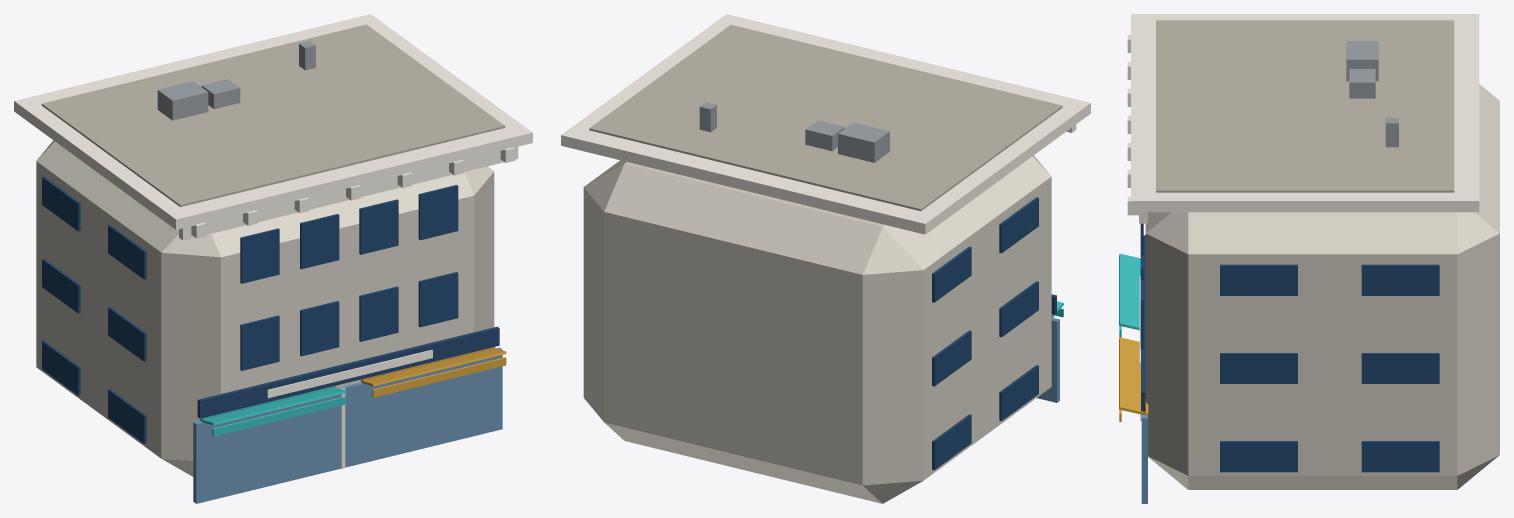
The model's file is mixed_w14_f3_punched.glb.
3 views of the same model, side by side, from view 1: azimuth 30°, elevation 25°; view 2: azimuth 150°, elevation 25°; view 3: azimuth 270°, elevation 25° (orthographic). The views are drawn at different scales.
Visible parts, largest first — view 1: walls, roofslab, shopglass, corn, fascia, frieze, win.003, win.007, win, win.002, win.004, win.005 (+15 smaller); view 2: walls, roofslab, corn, hvac, sb.002, sb.004, sb, sb.006, sb.010, sb.008, hvac2, shopglass; view 3: walls, roofslab, corn, sb.003, sb.011, sb.001, sb.009, sb.007, sb.005, awn.001, awn, hvac (+4 smaller).
Boxes of the visible parts, bbox=[...] form: walls: bbox=[36, 140, 494, 476]; roofslab: bbox=[41, 24, 505, 206]; shopglass: bbox=[193, 347, 502, 503]; corn: bbox=[14, 14, 532, 229]; fascia: bbox=[197, 326, 499, 418]; frieze: bbox=[179, 146, 518, 240]; win.003: bbox=[418, 272, 458, 327]; win.007: bbox=[418, 185, 458, 240]; win: bbox=[240, 315, 279, 370]; win.002: bbox=[359, 286, 398, 341]; win.004: bbox=[240, 228, 279, 283]; win.005: bbox=[300, 214, 339, 269]; walls: bbox=[583, 155, 1051, 503]; roofslab: bbox=[589, 24, 1062, 211]; corn: bbox=[561, 14, 1090, 234]; hvac: bbox=[838, 122, 889, 162]; sb.002: bbox=[932, 414, 971, 470]; sb.004: bbox=[999, 281, 1038, 337]; sb: bbox=[999, 365, 1038, 421]; sb.006: bbox=[932, 330, 971, 386]; sb.010: bbox=[932, 246, 971, 302]; sb.008: bbox=[999, 197, 1038, 253]; hvac2: bbox=[805, 120, 844, 150]; shopglass: bbox=[1037, 317, 1059, 402]; walls: bbox=[1145, 84, 1499, 489]; roofslab: bbox=[1156, 20, 1454, 192]; corn: bbox=[1131, 14, 1479, 212]; sb.003: bbox=[1361, 441, 1439, 472]; sb.011: bbox=[1361, 264, 1439, 295]; sb.001: bbox=[1220, 441, 1297, 472]; sb.009: bbox=[1220, 264, 1297, 295]; sb.007: bbox=[1361, 353, 1439, 383]; sb.005: bbox=[1220, 353, 1297, 383]; awn.001: bbox=[1119, 337, 1148, 414]; awn: bbox=[1119, 253, 1140, 330]; hvac: bbox=[1346, 41, 1378, 81].
Size of the model in its own units: 15 by 12.8 by 12.91.
